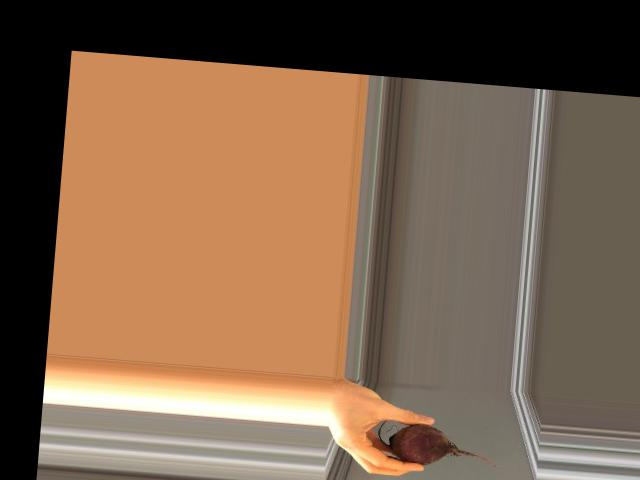beet: (377, 419, 505, 470)
